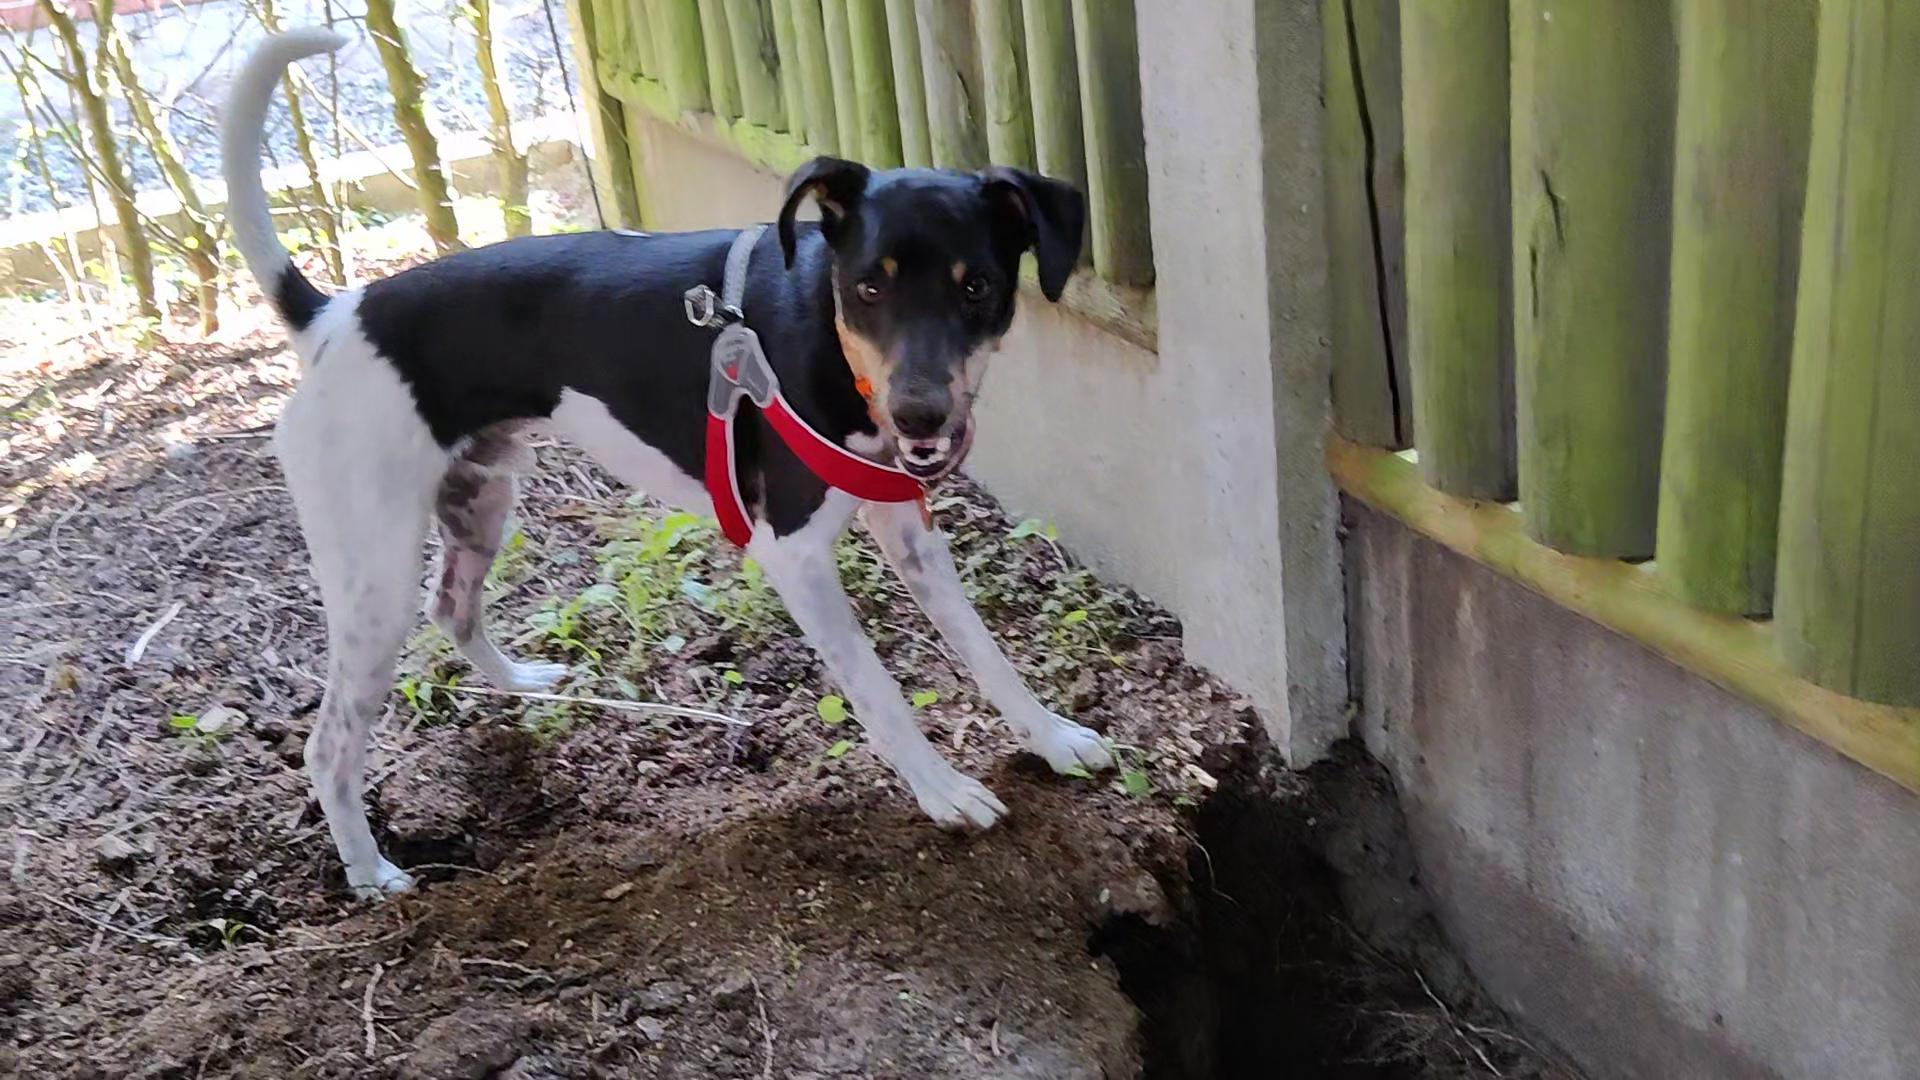Dog: (194, 18, 1139, 914)
